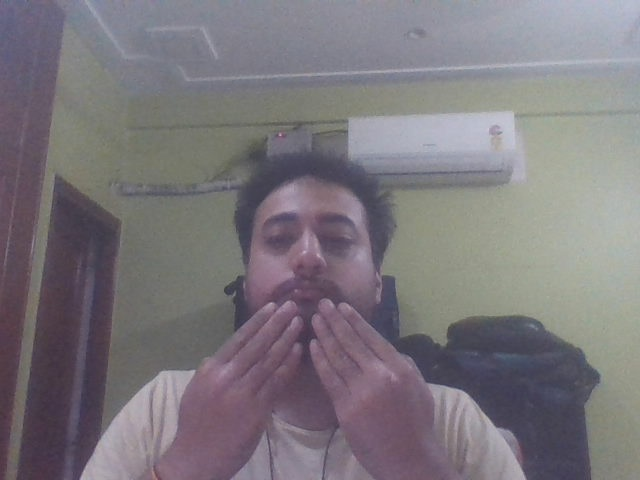Thanks: (120, 295, 489, 480)
